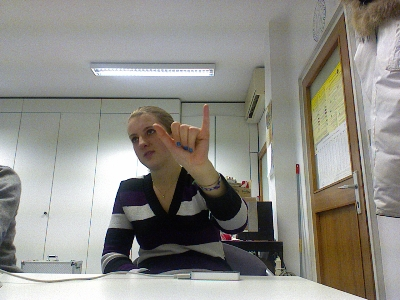六六六: (151, 101, 211, 167)
